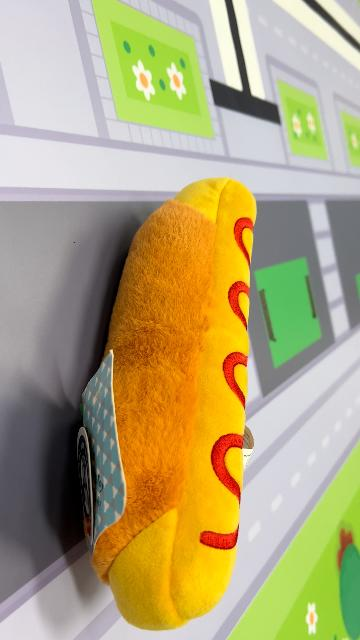hotdog: (76, 176, 258, 632)
